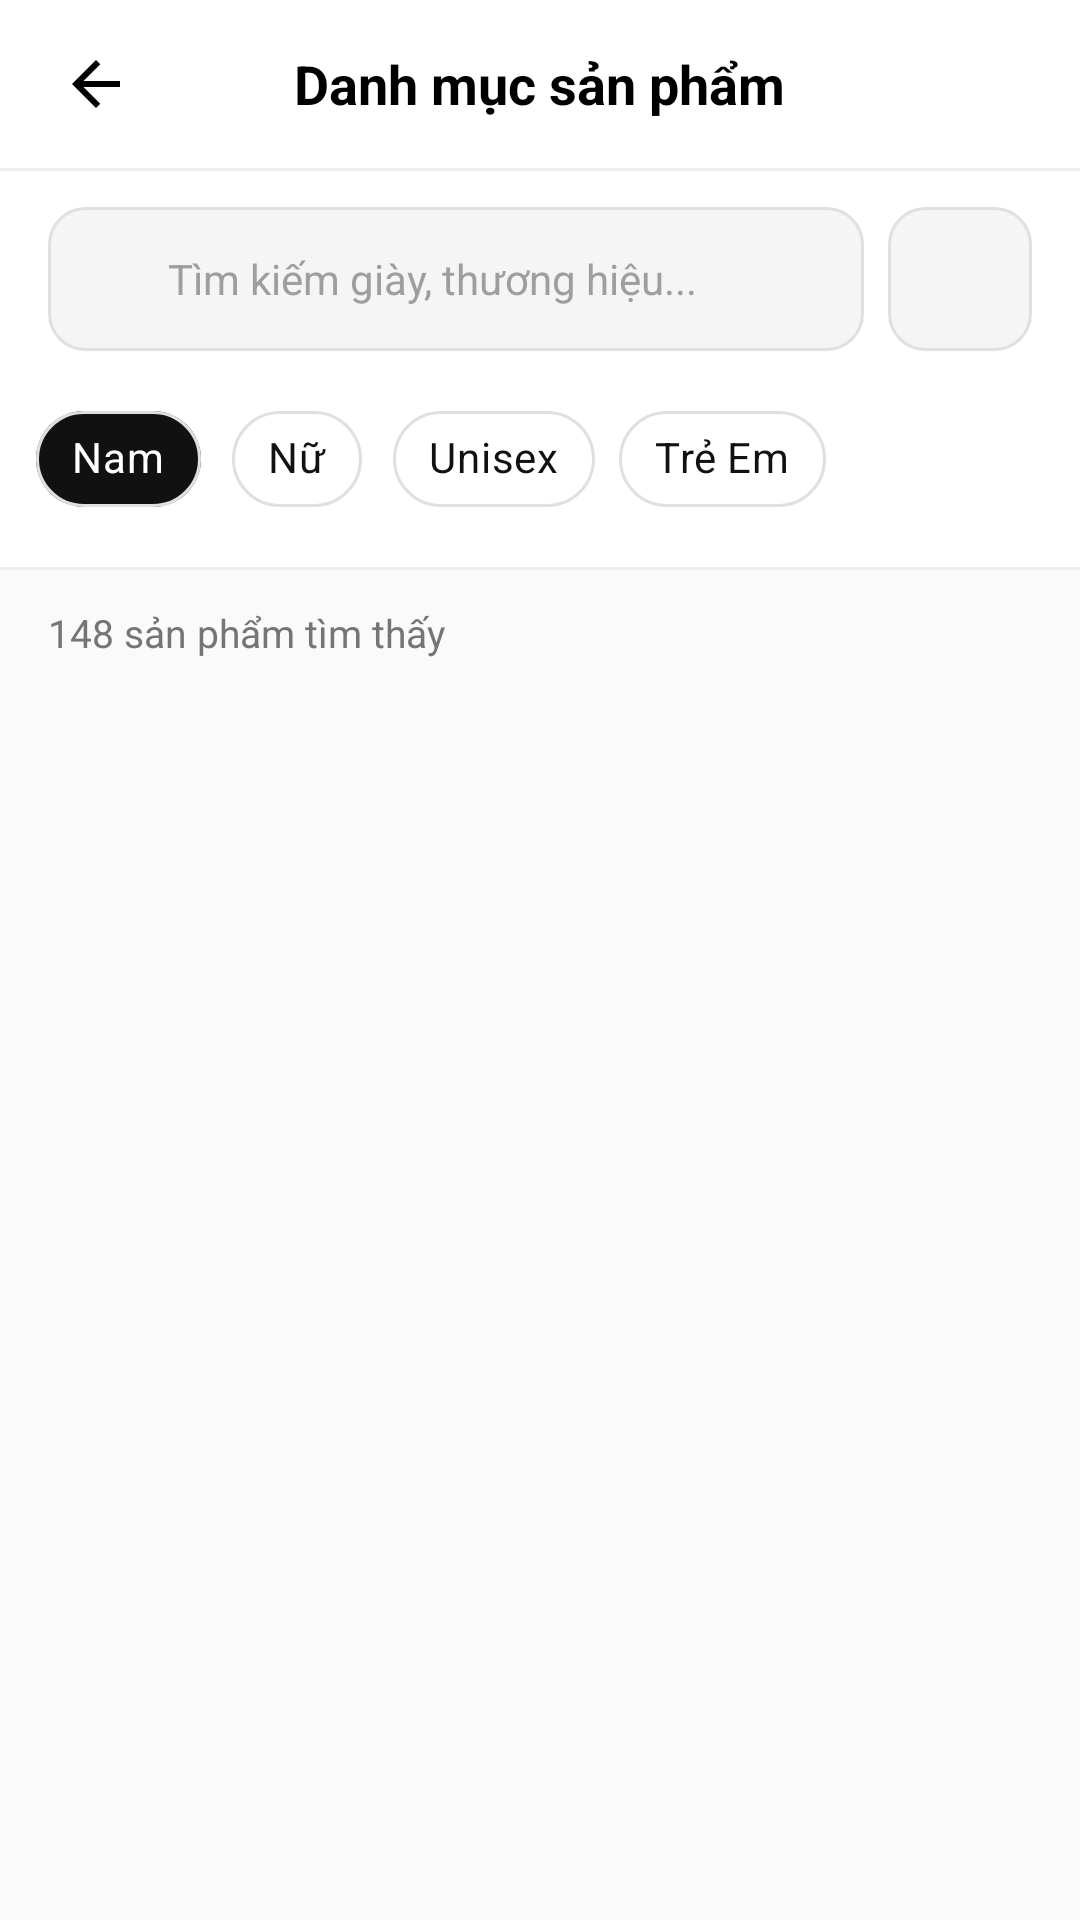

Screen size 1080 × 1920. Icon name, then its box in pixels as (x1=x1, y1=y1, x2=x2, y2=y2):
Quay lại: (x1=72, y1=60, x2=120, y2=108)
